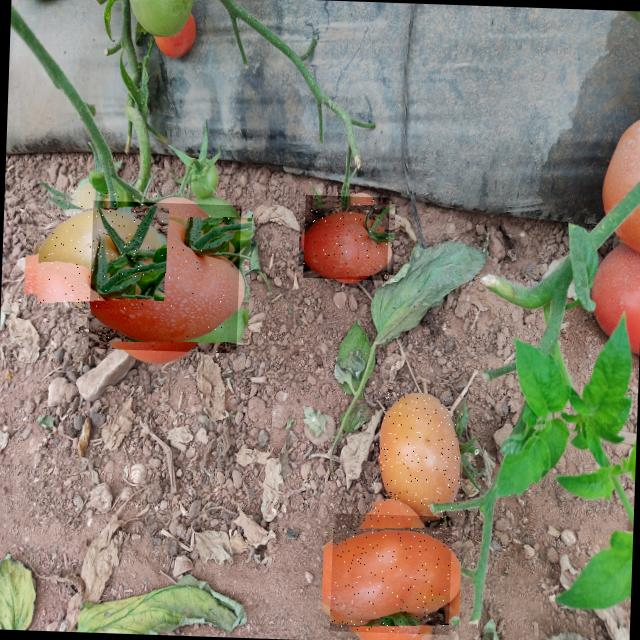Ripe Tomato: (88, 200, 241, 353), (329, 512, 452, 634), (372, 391, 466, 517), (302, 194, 390, 280)
Unripe Tomato: (36, 188, 158, 310)
